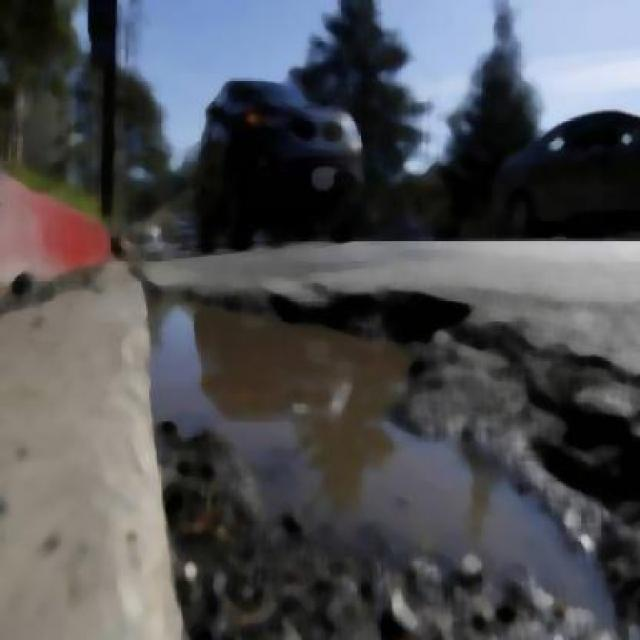pothole: (138, 283, 627, 639)
